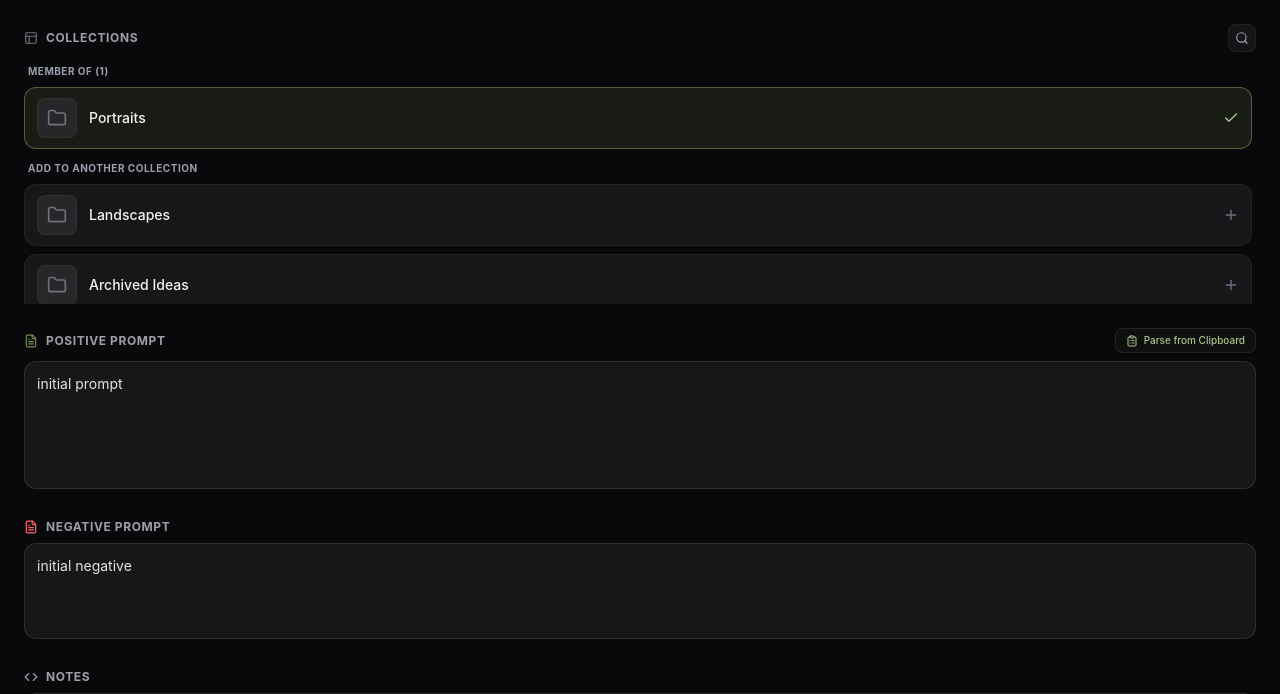
it: MetadataEditTab › disables a pending membership row and ignores duplicate clicks
The width and height of the screenshot is (1280, 694).
Click the button "Landscapes". click: (57,215)
box: [24,184,1252,246]
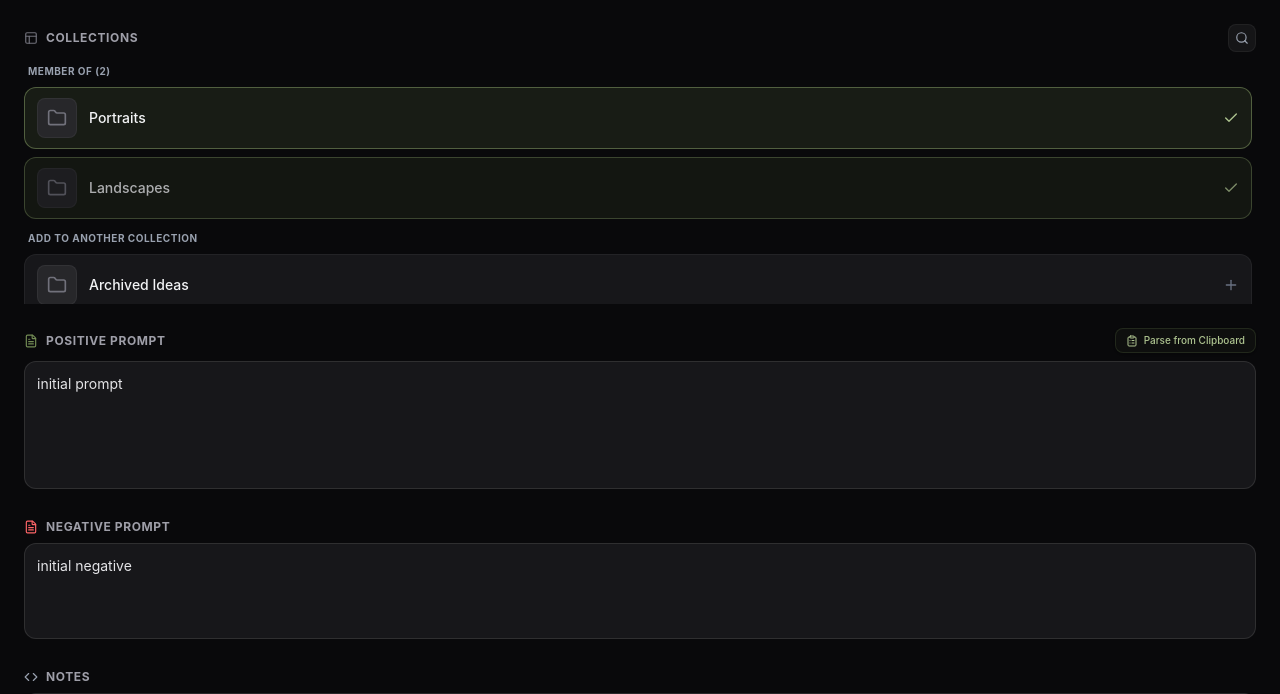
Now the button "Landscapes" is disabled
Click the button "Landscapes". click: (57,188)
box: [24,157,1252,219]
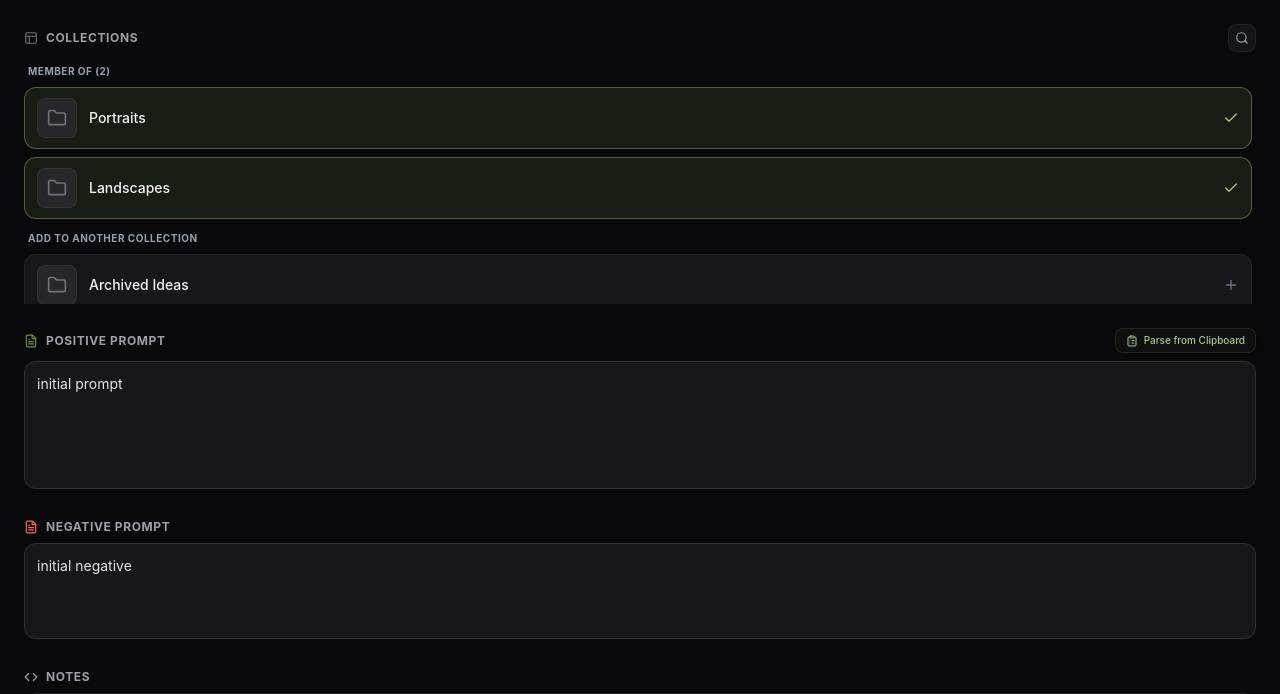
Now the button "Landscapes" is enabled, box [24,157,1252,219]
